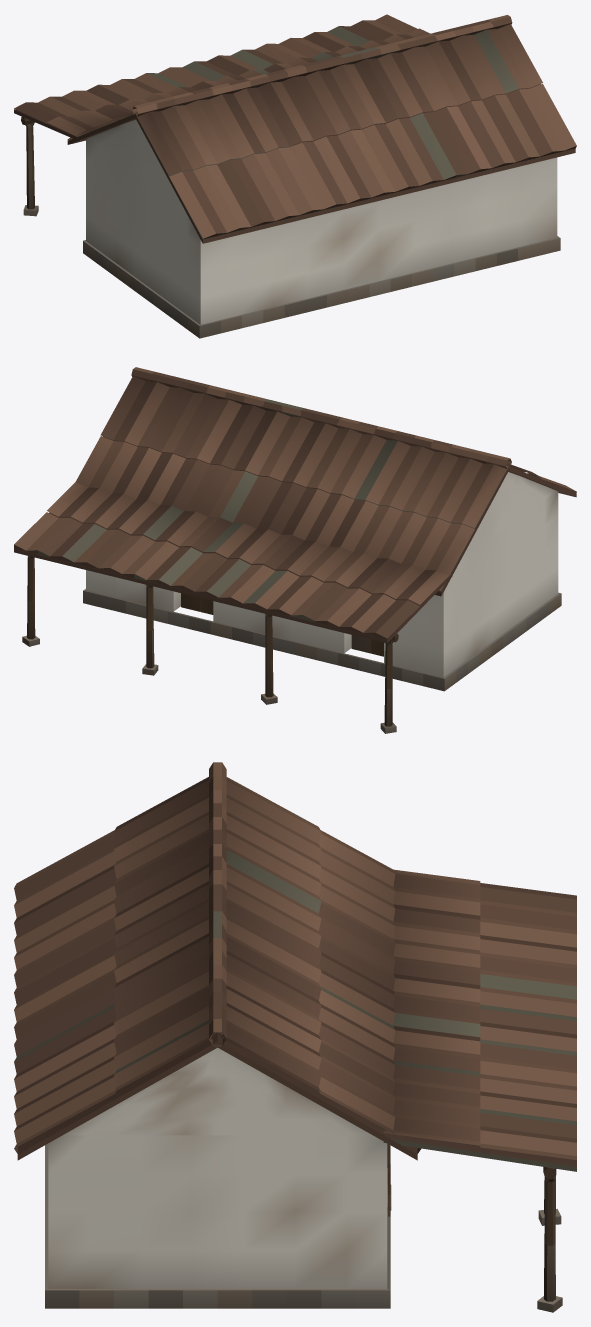
File: casa_galeria_b.glb
3 renders of one model, top to bottom at view 1: azimuth 30°, elevation 25°; view 2: azimuth 150°, elevation 25°; view 3: azimuth 270°, elevation 25°, orthographic. The views are drawn at different scales.
Parts seen in each view (by area): view 1: casa_galeria_b; view 2: casa_galeria_b; view 3: casa_galeria_b.
Part boxes in pixels (x1,y1,x2,y2): casa_galeria_b: (14, 14, 576, 338); casa_galeria_b: (14, 367, 576, 733); casa_galeria_b: (14, 762, 576, 1312).
Size of the model in its own units: 9.45 by 4.58 by 8.31.
